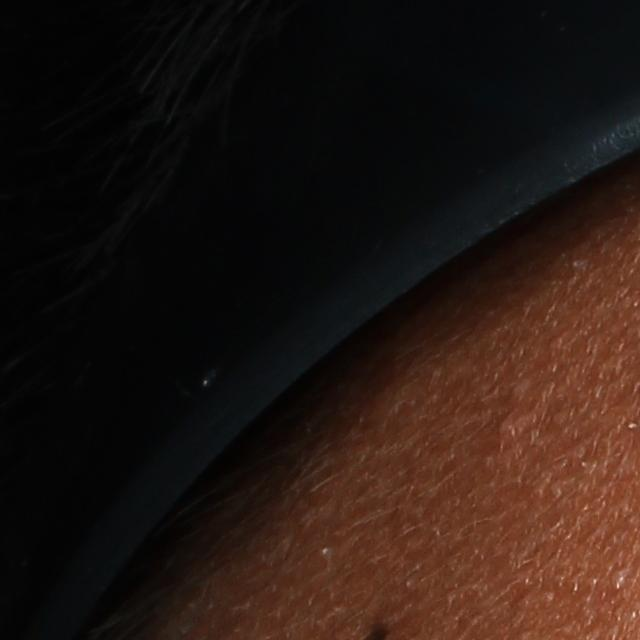comedo: (494, 411, 524, 441), (610, 566, 627, 590)
